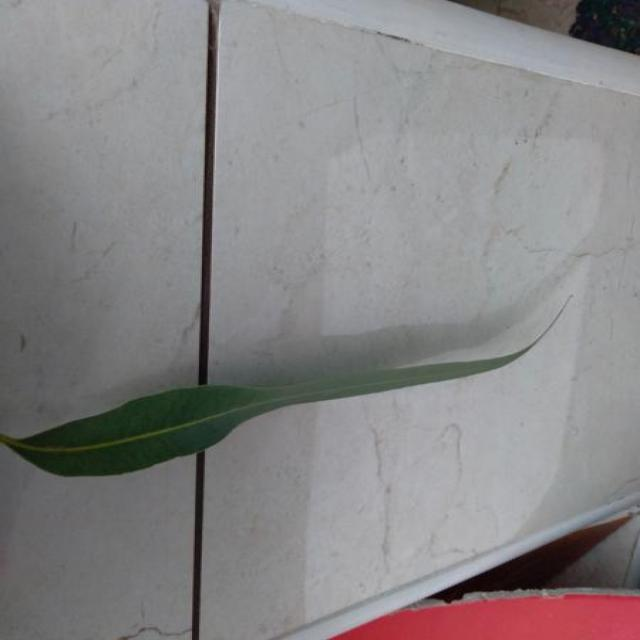eucalpytus: (0, 318, 557, 476)
